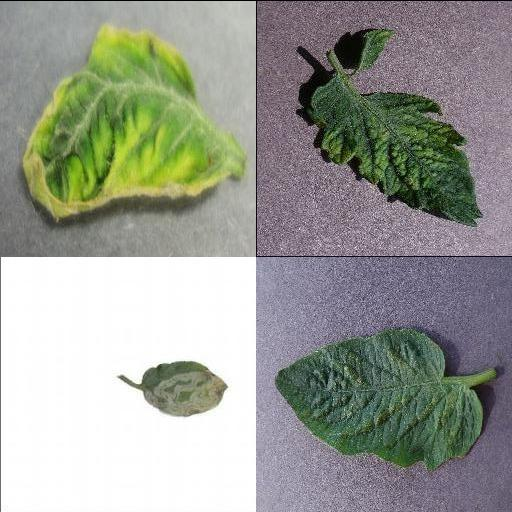Leaf Miner: (140, 362, 228, 419)
Mosaic Virus: (305, 29, 485, 227)
Spider Mites: (274, 326, 484, 468)
Yellow Leaf Curl Virus: (22, 22, 244, 220)
